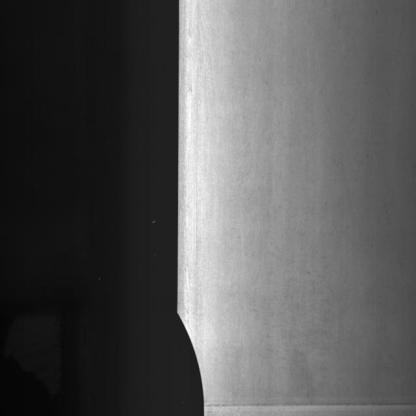crescent_gap: (170, 305, 212, 415)
welding_line: (201, 390, 416, 414)
